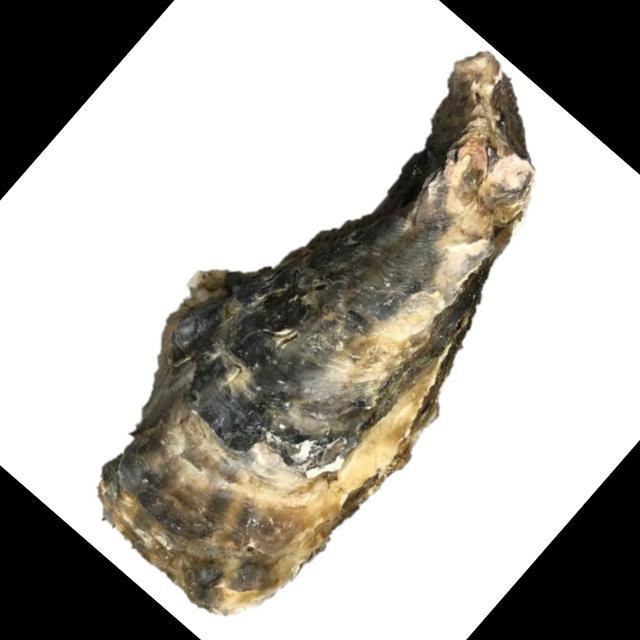Oyster- Indeterminate: (96, 53, 537, 618)
